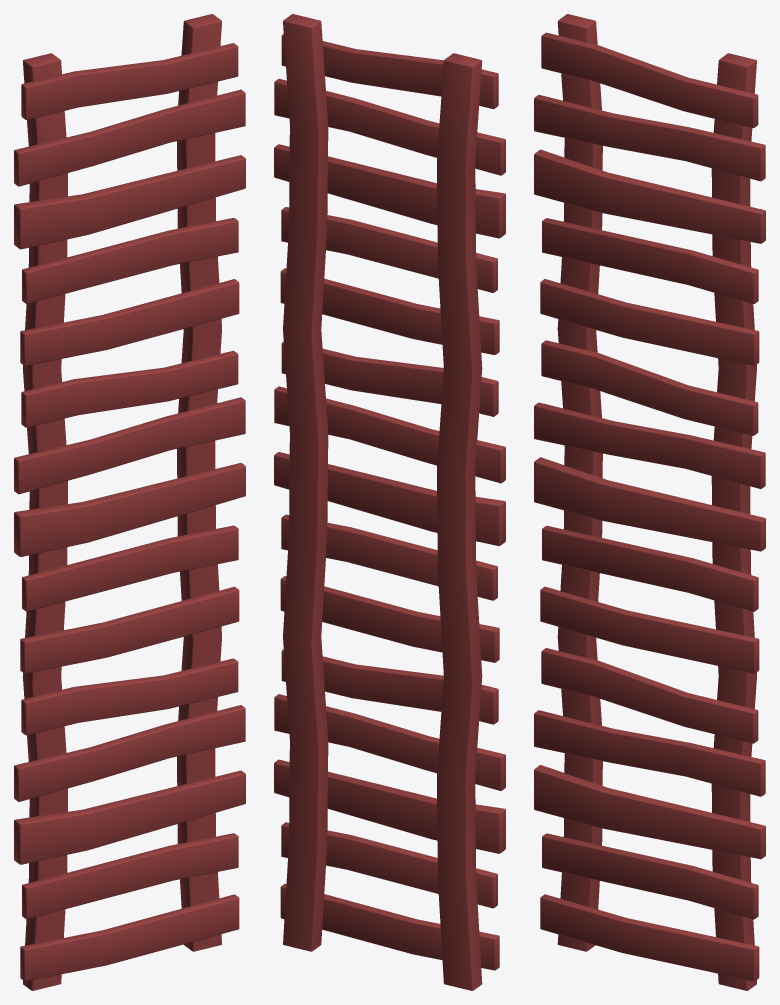
File: echelle_3blocs.fbx
3 views of the same model, side by side, from view 1: azimuth 30°, elevation 25°; view 2: azimuth 150°, elevation 25°; view 3: azimuth 330°, elevation 25° (orthographic).
Visible parts, largest first — view 1: echelle_03_part01, echelle_03_part04, echelle_03_part15, echelle_03_part10, echelle_03_part16, echelle_03_part11, echelle_03_part05, echelle_03_part02, echelle_03_part08, echelle_03_part13, echelle_03_part12, echelle_03_part17 (+4 smaller); view 2: echelle_03_part01, echelle_03_part04, echelle_03_part10, echelle_03_part15, echelle_03_part11, echelle_03_part16, echelle_03_part05, echelle_03_part02, echelle_03_part08, echelle_03_part13, echelle_03_part06, echelle_03_part17 (+4 smaller); view 3: echelle_03_part01, echelle_03_part10, echelle_03_part04, echelle_03_part15, echelle_03_part11, echelle_03_part05, echelle_03_part16, echelle_03_part08, echelle_03_part02, echelle_03_part13, echelle_03_part06, echelle_03_part12 (+4 smaller).
Boxes of the visible parts, x1,y1,x2,y2 form: echelle_03_part01: (22,14,221,990); echelle_03_part04: (14,770,245,864); echelle_03_part15: (14,155,245,249); echelle_03_part10: (14,463,245,556); echelle_03_part16: (14,89,245,186); echelle_03_part11: (14,397,245,494); echelle_03_part05: (14,705,245,801); echelle_03_part02: (20,894,239,981); echelle_03_part08: (20,586,239,673); echelle_03_part13: (20,279,239,365); echelle_03_part12: (21,350,238,427); echelle_03_part17: (21,43,238,119); echelle_03_part01: (283,14,482,990); echelle_03_part04: (274,759,505,853); echelle_03_part10: (274,452,505,545); echelle_03_part15: (274,144,505,238); echelle_03_part11: (274,386,505,483); echelle_03_part16: (274,78,505,175); echelle_03_part05: (274,694,505,790); echelle_03_part02: (280,883,499,970); echelle_03_part08: (280,576,499,662); echelle_03_part13: (280,268,499,354); echelle_03_part06: (281,649,498,724); echelle_03_part17: (281,34,498,109); echelle_03_part01: (557,14,756,990); echelle_03_part10: (534,457,765,551); echelle_03_part04: (534,765,765,859); echelle_03_part15: (534,149,765,243); echelle_03_part11: (534,402,765,488); echelle_03_part05: (534,710,765,796); echelle_03_part16: (534,95,765,181); echelle_03_part08: (540,586,759,673); echelle_03_part02: (540,894,759,981); echelle_03_part13: (540,279,759,365); echelle_03_part06: (541,648,758,743); echelle_03_part12: (541,340,758,435).
Size of the model in its own units: 1.55 by 6.01 by 0.1855.
